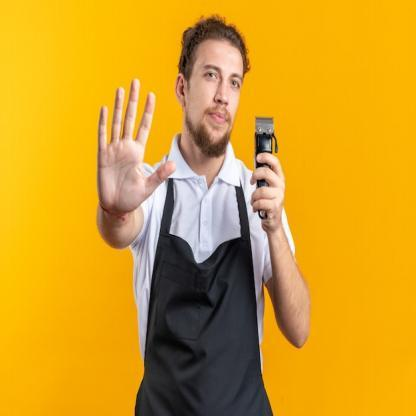stop: (92, 70, 178, 218)
